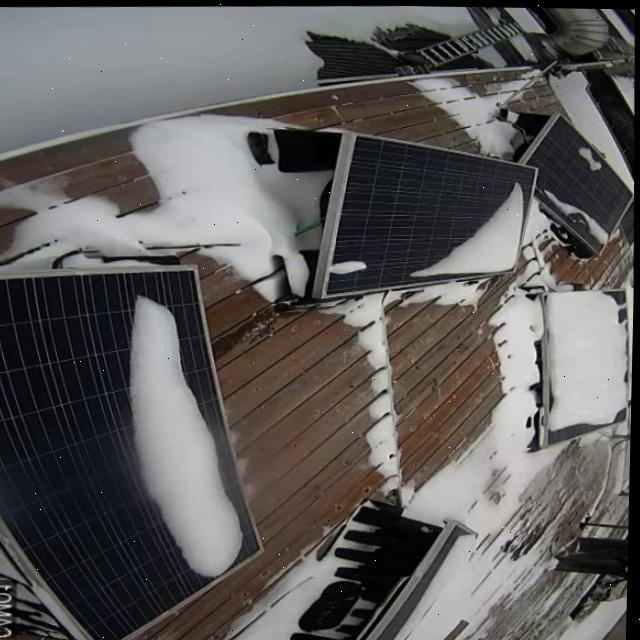Anomaly Solar Panel: (0, 268, 261, 640), (324, 131, 536, 296), (524, 110, 634, 252), (546, 288, 629, 442), (372, 520, 477, 640)
Snow: (127, 290, 251, 581), (543, 288, 629, 447), (404, 174, 528, 279), (390, 534, 479, 640), (539, 184, 614, 253), (332, 252, 373, 276), (578, 141, 604, 171)
